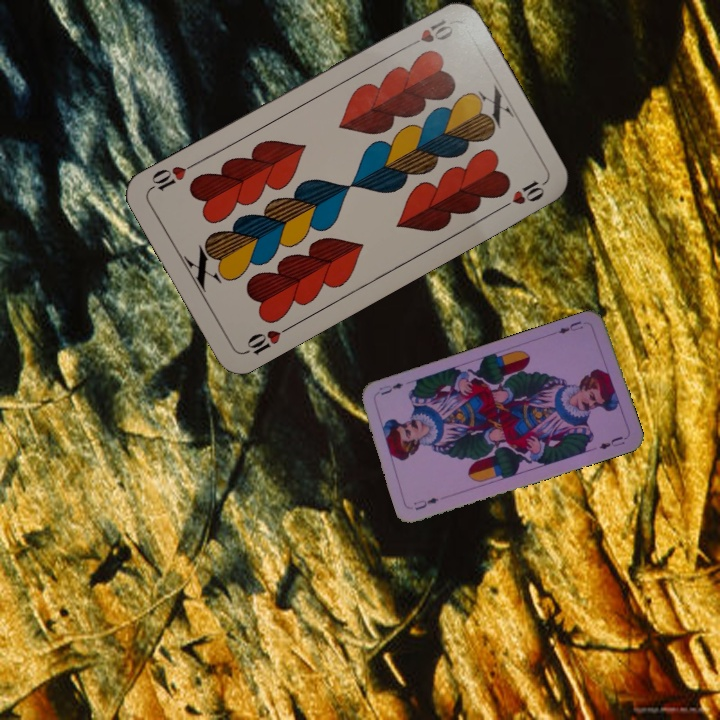EU: (409, 493, 441, 513), (554, 317, 586, 336)
H10: (401, 15, 456, 51), (239, 322, 294, 358)
